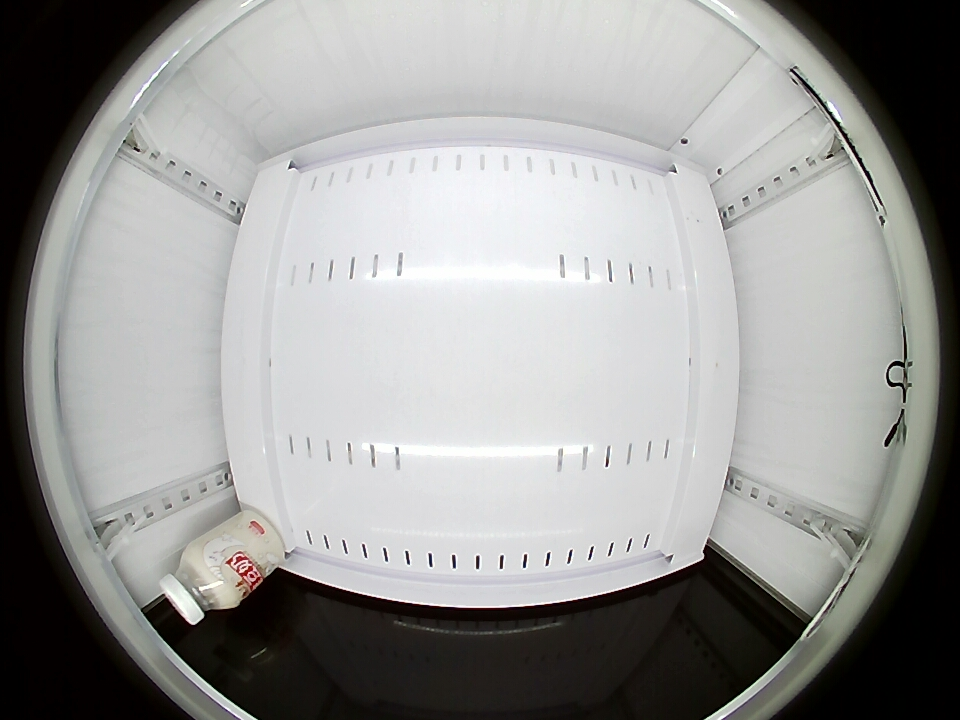weiweidounai: (159, 540, 244, 626)
